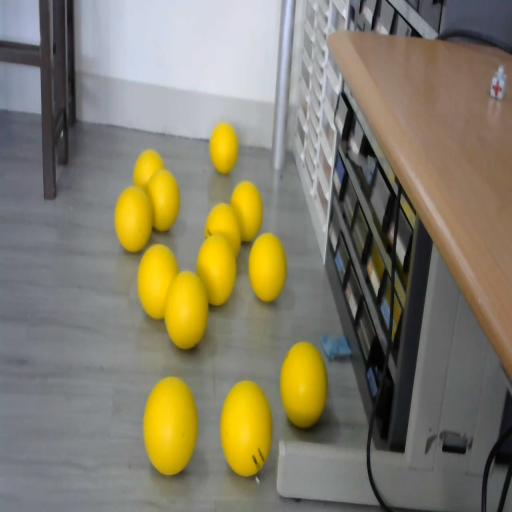FUEL: (142, 375, 198, 474), (219, 379, 273, 475), (279, 341, 327, 428), (137, 243, 178, 319), (196, 233, 237, 306), (248, 231, 287, 302), (114, 186, 153, 252), (146, 166, 180, 232), (230, 180, 264, 242), (210, 122, 238, 174)
